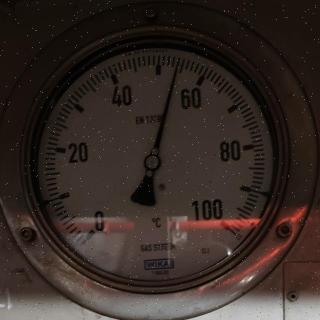gauge: (11, 28, 302, 299), (73, 212, 109, 252), (208, 206, 244, 242), (143, 153, 161, 171), (172, 54, 184, 72)
